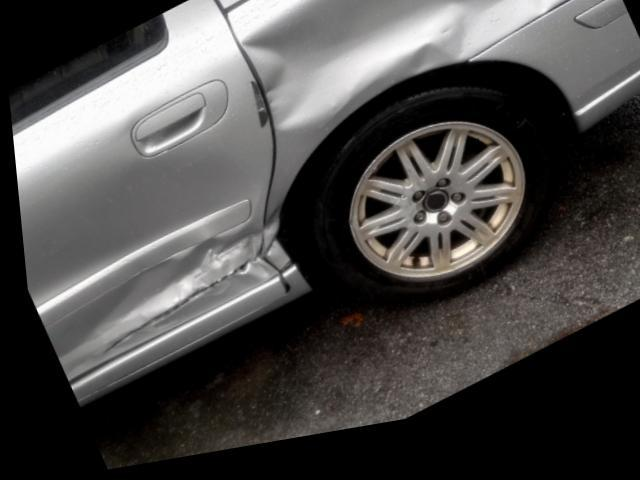dent: (242, 0, 595, 139), (50, 237, 273, 383)
